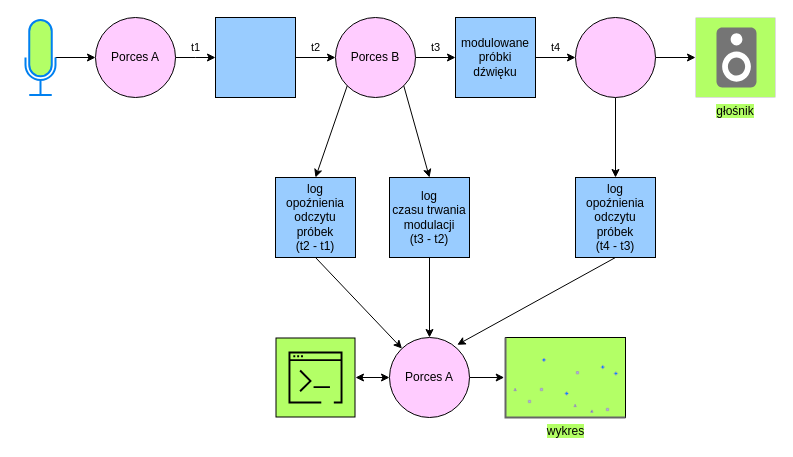
Some shapes in this 793 by 457 pixel diagram are drawn without their labels. The shapes that lost their labels are listed below. From the top down, each one's centre as x and y in pixels, then its label:
At (40,57): "mikrofon".
At (255,57): "próbki dźwięku".
At (615,57): "Porces C".
At (315,377): "terminal".
